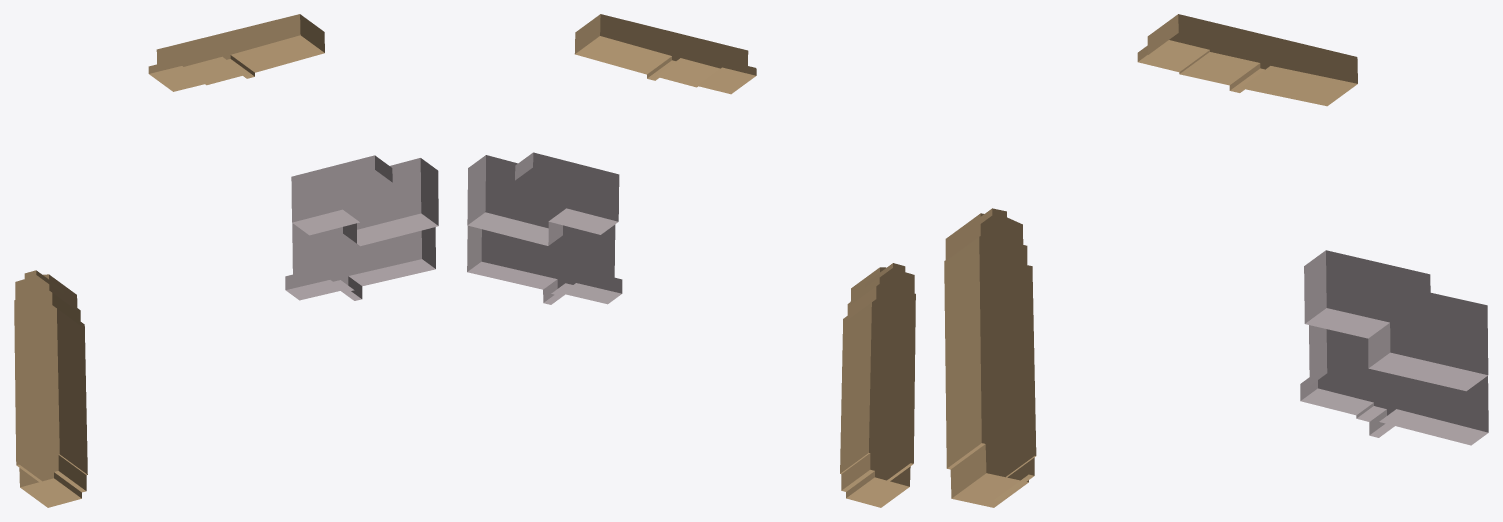
3 renders of one model, left to right at view 1: azimuth 30°, elevation 25°; view 2: azimuth 150°, elevation 25°; view 3: azimuth 330°, elevation 25°, orthographic. The views are drawn at different scales.
Parts seen in each view (by area): view 1: 0_0_2_0_0_1_1; view 2: 0_0_2_0_0_1_1; view 3: 0_0_2_0_0_1_1.
Boxes of the visible parts, left/top/right/bottom form: 0_0_2_0_0_1_1: left=14, top=14, right=438, bottom=507; 0_0_2_0_0_1_1: left=467, top=14, right=915, bottom=507; 0_0_2_0_0_1_1: left=944, top=14, right=1488, bottom=507.
Size of the model in its own units: 202 by 188 by 31.1.
